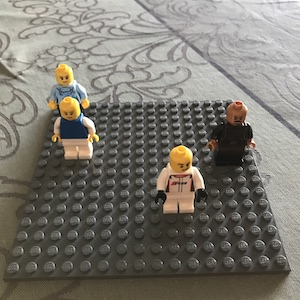Lego: (156, 144, 202, 220), (50, 97, 94, 167), (209, 100, 253, 165), (47, 63, 85, 122)
